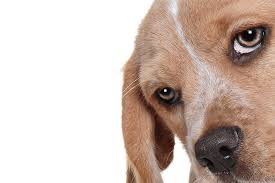dog: (101, 1, 275, 183)
